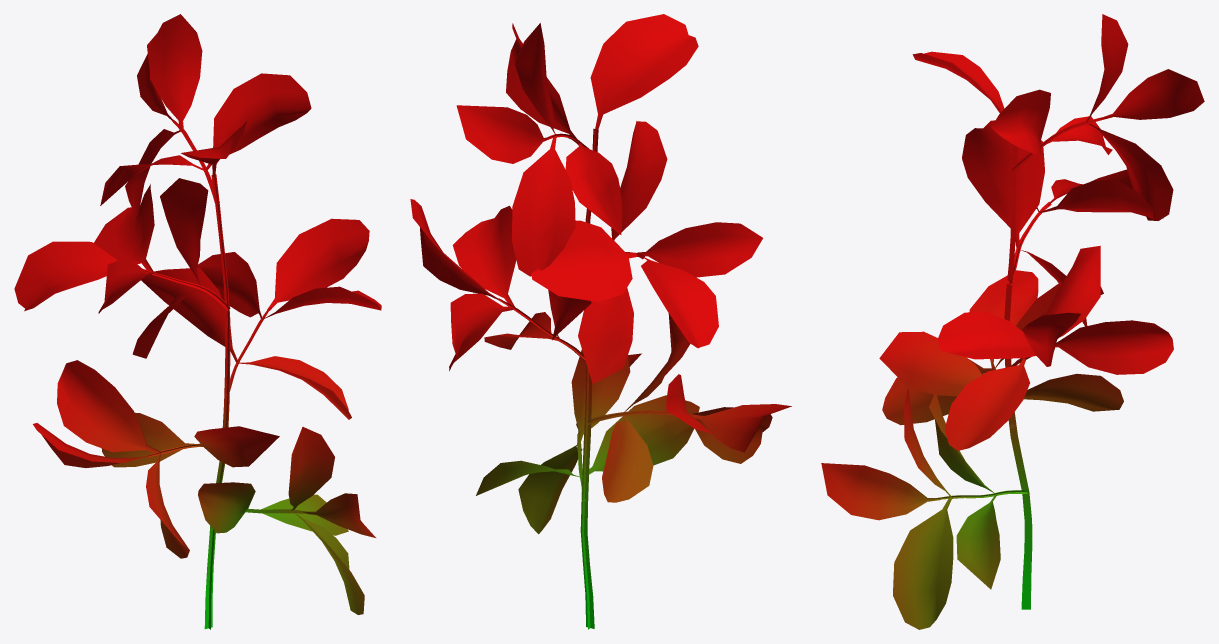
File: Var4_LOD0.fbx
3 renders of one model, left to right at view 1: azimuth 30°, elevation 25°; view 2: azimuth 150°, elevation 25°; view 3: azimuth 270°, elevation 25°, orthographic. The views are drawn at different scales.
Visible parts, largest first — view 1: _8s6h_Var4_LOD0; view 2: _8s6h_Var4_LOD0; view 3: _8s6h_Var4_LOD0.
Boxes of the visible parts, x1,y1,x2,y2 form: _8s6h_Var4_LOD0: (14, 14, 381, 629); _8s6h_Var4_LOD0: (410, 14, 791, 629); _8s6h_Var4_LOD0: (821, 14, 1204, 629).
Size of the model in its own units: 26.62 by 43.98 by 25.46.
